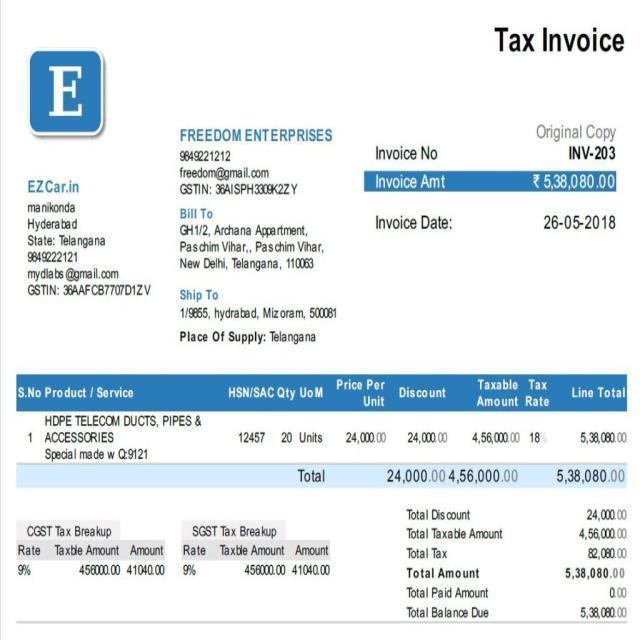paragraph: (367, 116, 632, 242), (400, 500, 632, 623), (20, 173, 155, 303), (172, 123, 338, 197), (176, 202, 336, 276), (172, 285, 342, 350), (181, 516, 336, 583), (13, 516, 169, 580), (25, 44, 113, 141), (293, 464, 629, 487), (488, 20, 629, 60)
table: (11, 368, 631, 462)
